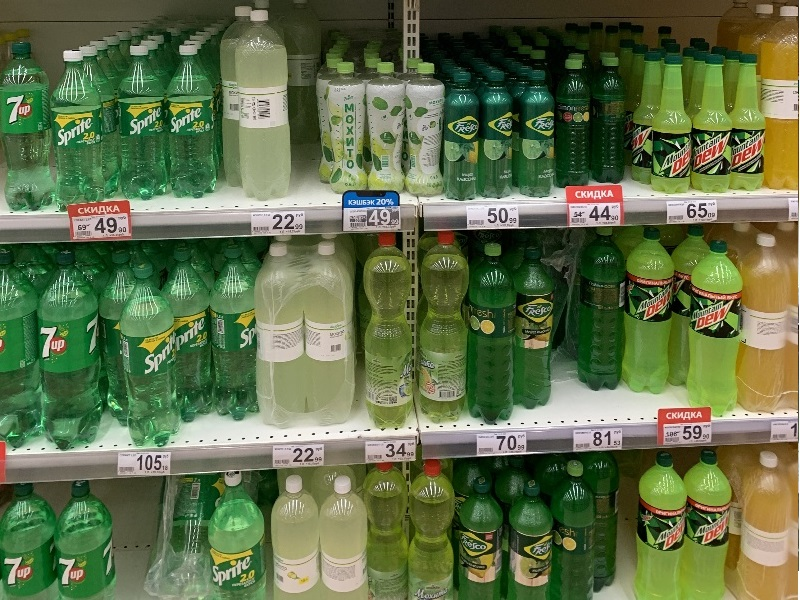lemonade: (35, 249, 102, 455), (115, 264, 182, 451), (464, 236, 521, 433), (361, 229, 413, 438), (415, 230, 469, 427), (688, 240, 746, 423), (204, 243, 262, 419), (1, 41, 58, 213), (619, 226, 676, 397), (47, 50, 108, 208), (112, 46, 172, 201), (160, 43, 220, 198), (578, 224, 630, 399), (510, 246, 558, 407), (434, 68, 485, 203), (689, 51, 735, 197), (726, 56, 773, 198), (650, 55, 696, 194), (550, 58, 596, 190), (513, 69, 558, 201), (475, 70, 515, 201), (590, 55, 629, 189)
